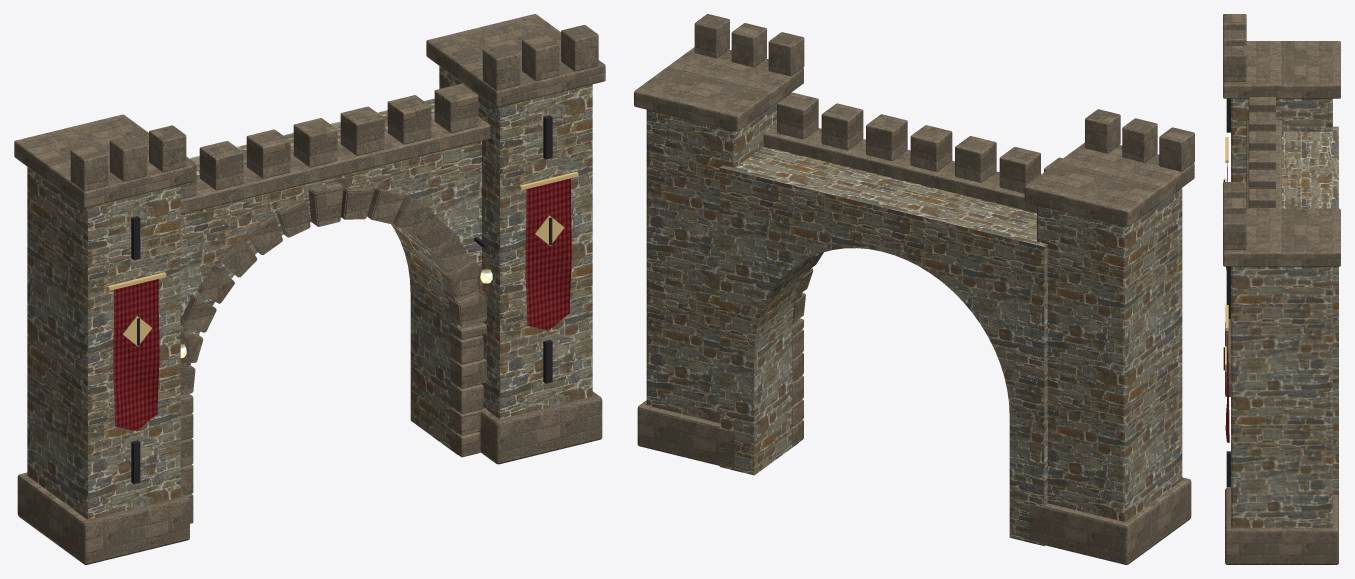
The model's file is fachada_02.glb.
The picture shows the model from 3 angles, left to right: view 1: azimuth 30°, elevation 25°; view 2: azimuth 150°, elevation 25°; view 3: azimuth 270°, elevation 25°; orthographic projection. The views are drawn at different scales.
Visible parts, largest first — view 1: F02_torre-1, F02_torre1, F02_muralha, F02_base-1, F02_coroa-1, F02_coroa1, F02_cornija, F02_estandarte1, F02_estandarte-1, F02_base1, F02_ameia_5, F02_ameia_6 (+26 smaller); view 2: F02_muralha, F02_torre-1, F02_torre1, F02_coroa-1, F02_coroa1, F02_base-1, F02_cornija, F02_base1, F02_ameia_5, F02_ameia_3, F02_ameia_2, F02_ameia_4 (+8 smaller); view 3: F02_torre1, F02_coroa1, F02_coroa-1, F02_muralha, F02_base1, F02_torre-1, F02_tameia1_2, F02_tameia-1_2, F02_cornija, F02_ameia_1, F02_ameia_2, F02_ameia_3 (+12 smaller).
Part boxes in pixels (x1=…): F02_torre-1: x1=27, y1=167, x2=180, y2=519; F02_torre1: x1=439, y1=66, x2=592, y2=418; F02_muralha: x1=180, y1=98, x2=481, y2=454; F02_base-1: x1=17, y1=472, x2=189, y2=564; F02_coroa-1: x1=14, y1=114, x2=193, y2=207; F02_coroa1: x1=426, y1=14, x2=605, y2=107; F02_cornija: x1=180, y1=116, x2=490, y2=214; F02_estandarte1: x1=525, y1=178, x2=571, y2=330; F02_estandarte-1: x1=113, y1=279, x2=159, y2=430; F02_base1: x1=479, y1=391, x2=602, y2=464; F02_ameia_5: x1=387, y1=95, x2=431, y2=144; F02_ameia_6: x1=434, y1=83, x2=478, y2=132; F02_muralha: x1=719, y1=146, x2=1047, y2=546; F02_torre-1: x1=1037, y1=188, x2=1182, y2=521; F02_torre1: x1=646, y1=92, x2=791, y2=422; F02_coroa-1: x1=1024, y1=143, x2=1194, y2=226; F02_coroa1: x1=634, y1=47, x2=803, y2=131; F02_base-1: x1=1029, y1=477, x2=1191, y2=564; F02_cornija: x1=763, y1=124, x2=1036, y2=212; F02_base1: x1=637, y1=400, x2=734, y2=467; F02_ameia_5: x1=821, y1=103, x2=863, y2=150; F02_ameia_3: x1=910, y1=125, x2=952, y2=171; F02_ameia_2: x1=955, y1=136, x2=996, y2=182; F02_ameia_4: x1=866, y1=114, x2=907, y2=160; F02_torre1: x1=1231, y1=266, x2=1332, y2=527; F02_coroa1: x1=1223, y1=208, x2=1340, y2=266; F02_coroa-1: x1=1223, y1=41, x2=1340, y2=98; F02_muralha: x1=1282, y1=126, x2=1338, y2=495; F02_base1: x1=1225, y1=488, x2=1338, y2=564; F02_torre-1: x1=1231, y1=98, x2=1332, y2=182; F02_tameia1_2: x1=1223, y1=213, x2=1246, y2=249; F02_tameia-1_2: x1=1223, y1=46, x2=1246, y2=81; F02_cornija: x1=1246, y1=120, x2=1281, y2=208; F02_ameia_1: x1=1248, y1=112, x2=1275, y2=131; F02_ameia_2: x1=1248, y1=131, x2=1275, y2=150; F02_ameia_3: x1=1248, y1=150, x2=1275, y2=169.
Bounding box in the file's own units: 12.8 × 9.55 × 3.
Materials: 7 (4 with a texture image).
